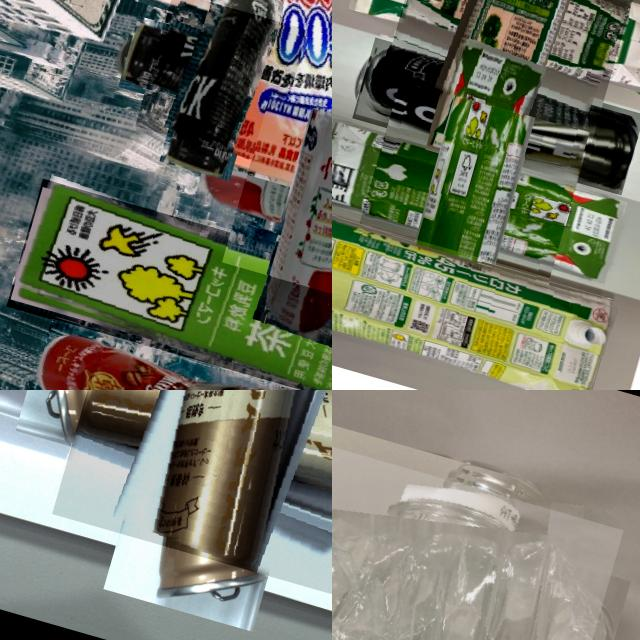Aluminium Foil: (4, 178, 332, 390), (345, 79, 590, 322), (332, 198, 618, 390), (379, 0, 640, 141), (148, 0, 332, 163)
Can: (50, 390, 332, 595), (350, 36, 640, 194), (133, 0, 306, 164), (220, 93, 332, 309), (25, 318, 324, 390)
Transparent Plastic Bottle: (332, 421, 622, 640)
